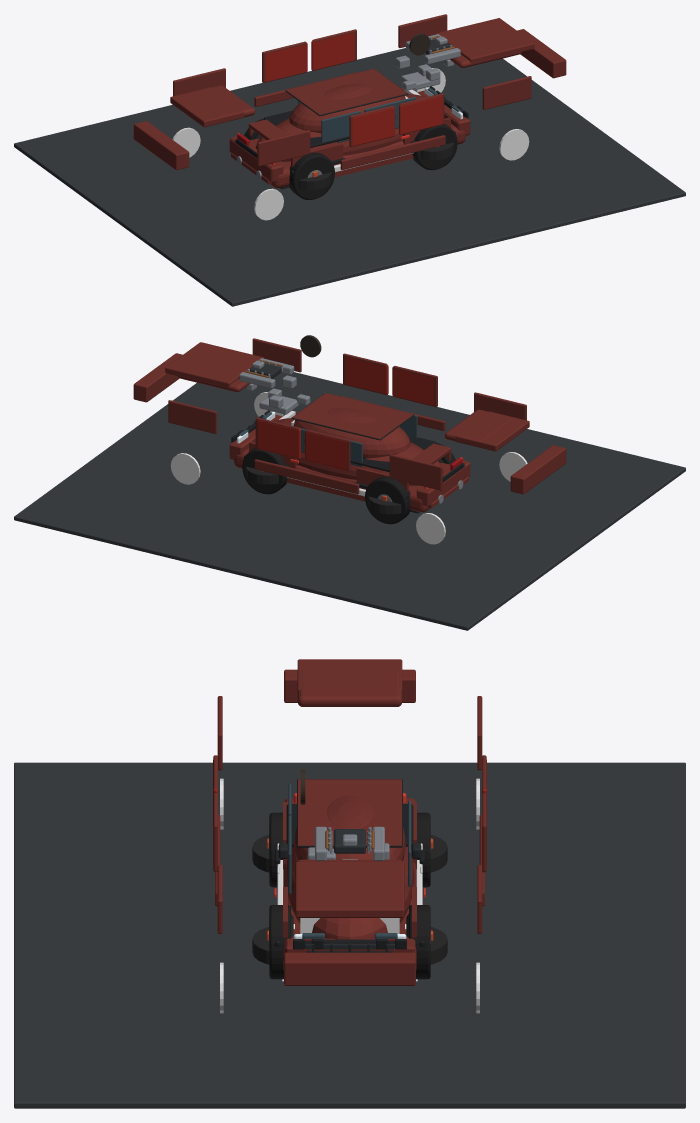
File: challenger-r9.glb
The picture shows the model from 3 angles, top to bottom: view 1: azimuth 30°, elevation 25°; view 2: azimuth 150°, elevation 25°; view 3: azimuth 270°, elevation 25°; orthographic projection. The views are drawn at different scales.
Visible parts, largest first — view 1: Ground, Panel_Hood_Service, MC_Roof_Panel, Roof_Cabin, Panel_Rear_Bumper_Service, Panel_Rear_Quarter_L, L_Front_Door, L_Rear_Door, Rear_L_Wheel, R_Front_Door, Trunk, R_Rear_Door (+17 smaller); view 2: Ground, Panel_Hood_Service, MC_Roof_Panel, Roof_Cabin, Panel_Rear_Bumper_Service, Panel_Rear_Quarter_R, R_Front_Door, Rear_R_Wheel, R_Rear_Door, L_Front_Door, Trunk, L_Rear_Door (+15 smaller); view 3: Ground, Panel_Hood_Service, MC_Roof_Panel, Panel_Front_Bumper_Service, Trunk, Lower_Body, Roof_Cabin, Panel_Trunk_Service, Front_L_Wheel, Front_R_Wheel, Panel_Rear_Bumper_Service, Rear_R_Wheel (+1 smaller).
Part boxes in pixels (x1,y1,x2,y2): Ground: (14,48,685,306); Panel_Hood_Service: (435,18,534,63); MC_Roof_Panel: (286,69,407,115); Roof_Cabin: (289,83,405,133); Panel_Rear_Bumper_Service: (133,121,189,170); Panel_Rear_Quarter_L: (257,130,310,166); L_Front_Door: (399,96,442,134); L_Rear_Door: (352,106,394,146); Rear_L_Wheel: (289,152,334,199); R_Front_Door: (311,32,354,70); Trunk: (187,85,255,121); R_Rear_Door: (266,42,307,81); Ground: (14,372,685,630); Panel_Hood_Service: (165,342,264,387); MC_Roof_Panel: (292,393,413,439); Roof_Cabin: (293,407,410,458); Panel_Rear_Bumper_Service: (510,445,566,494); Panel_Rear_Quarter_R: (389,454,442,490); R_Front_Door: (257,420,300,458); Rear_R_Wheel: (365,476,410,524); R_Rear_Door: (305,431,347,470); L_Front_Door: (345,357,388,394); Trunk: (444,409,512,444); L_Rear_Door: (392,367,433,405); Ground: (14,762,685,1108); Panel_Hood_Service: (295,861,404,917); MC_Roof_Panel: (298,779,401,845); Panel_Front_Bumper_Service: (284,952,415,985); Trunk: (297,670,402,706); Lower_Body: (285,846,414,939); Roof_Cabin: (294,795,405,860); Panel_Trunk_Service: (297,659,402,691); Front_L_Wheel: (269,905,290,979); Front_R_Wheel: (409,905,430,979); Panel_Rear_Bumper_Service: (284,669,415,702); Rear_R_Wheel: (411,812,430,887).
Size of what is drawn, in the model's own units: 12 by 3.47 by 10.
